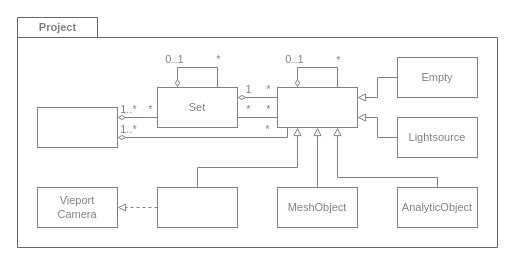
This 515x265 diagram has some shape labels left out. The shapes that lost their labels are listed below. From the top down, each one's box as (x1, y1, x2, y2) in pixels, then its label:
(36, 106, 118, 148): Scene
(276, 86, 358, 128): R3Object
(156, 186, 238, 228): Scene Camera
